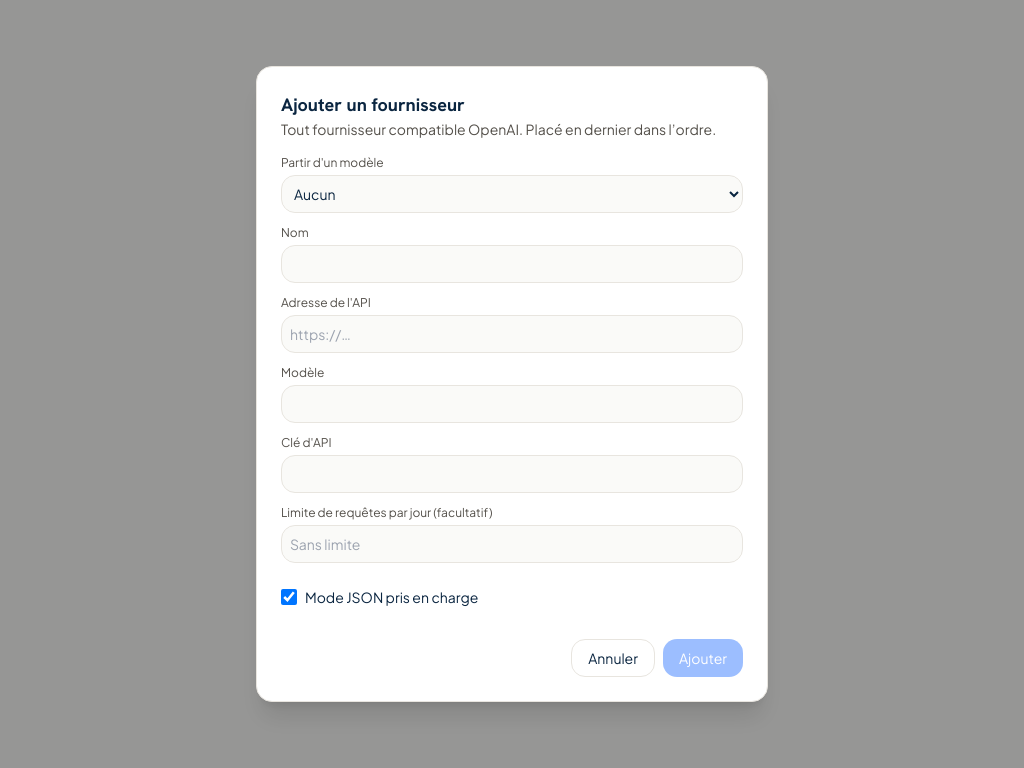
Test: ProviderFormDialog › erreur générale
The width and height of the screenshot is (1024, 768).
Type "Groq" into the field with test id "provider-name".
click(512, 264); type("Groq")  # box 281,245 -> 743,283
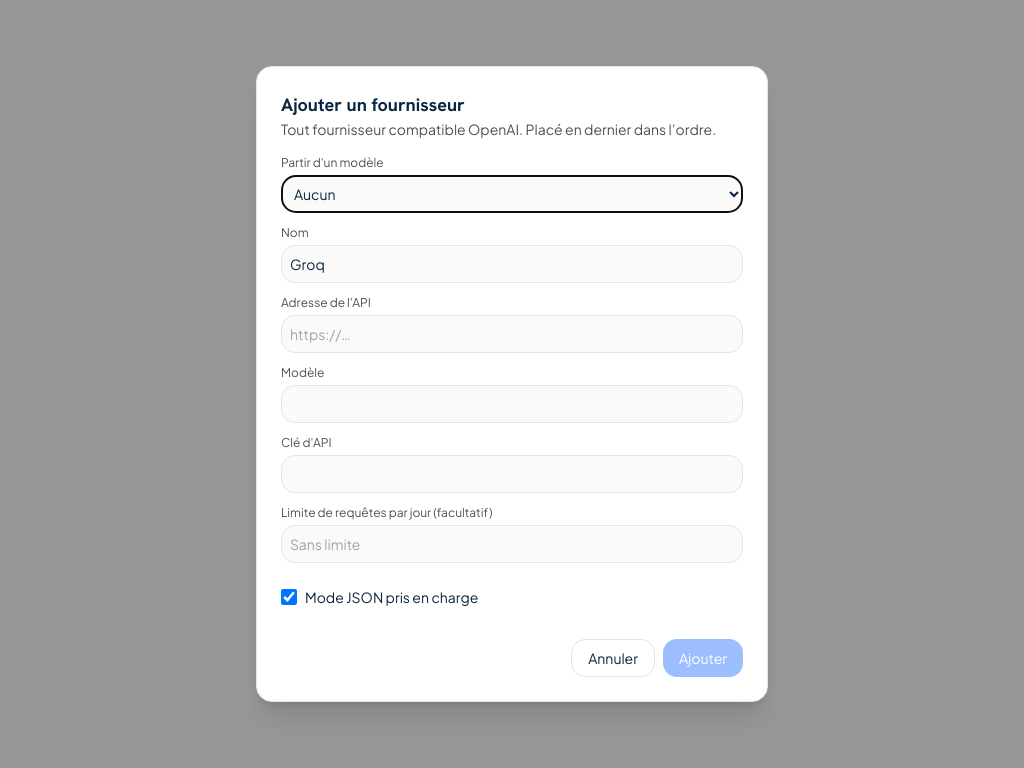
Type "https://a.com" into the field with test id "provider-base-url".
click(512, 334); type("https://a.com")  # box 281,315 -> 743,353
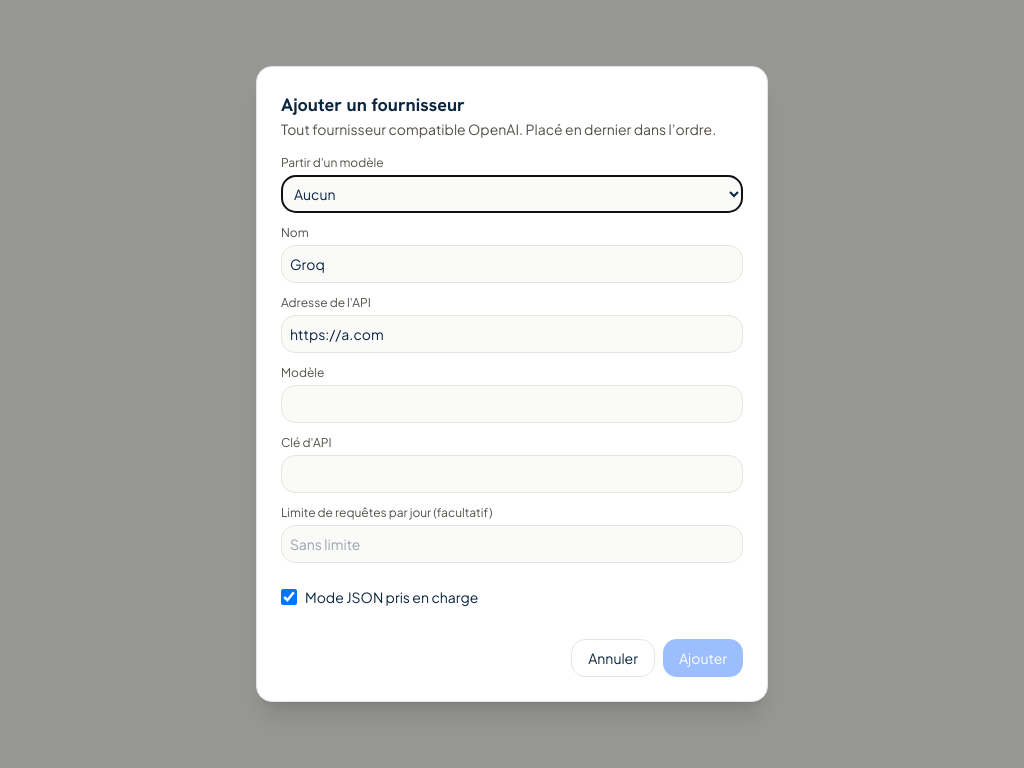
Type "m" into the field with test id "provider-model".
click(512, 404); type("m")  # box 281,385 -> 743,423
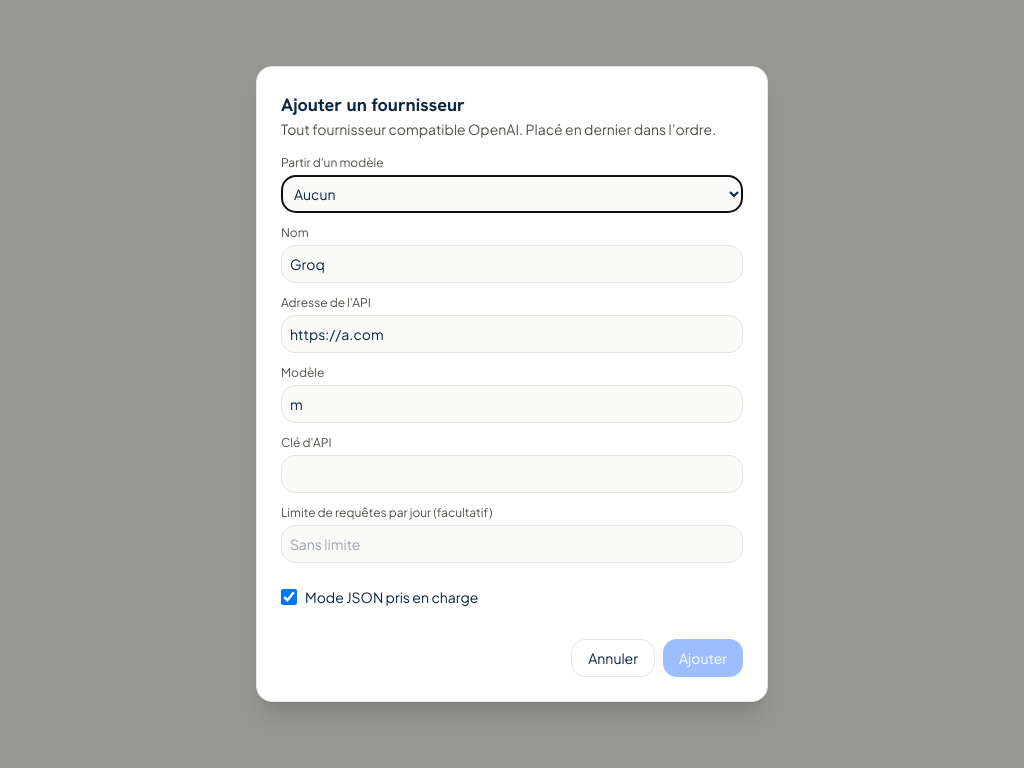
Type "gsk_secret_1" into the password field with test id "provider-api-key".
click(512, 474); type("gsk_secret_1")  # box 281,455 -> 743,493
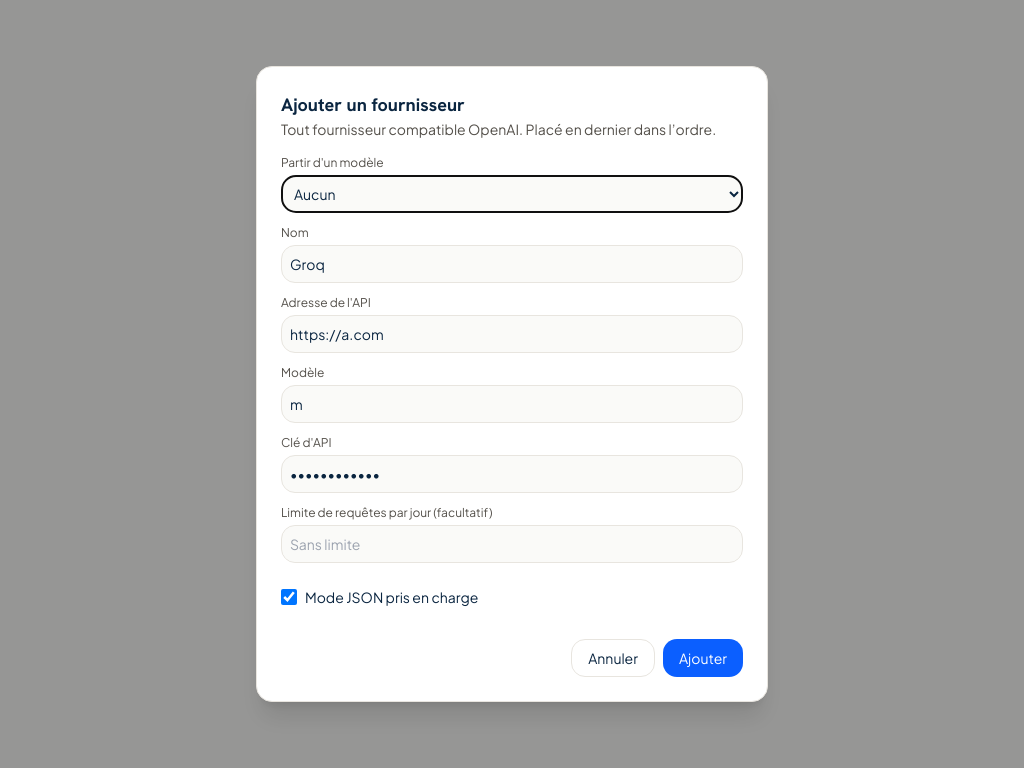
Click the button with test id "provider-submit".
click(703, 658)  # box 663,639 -> 743,677
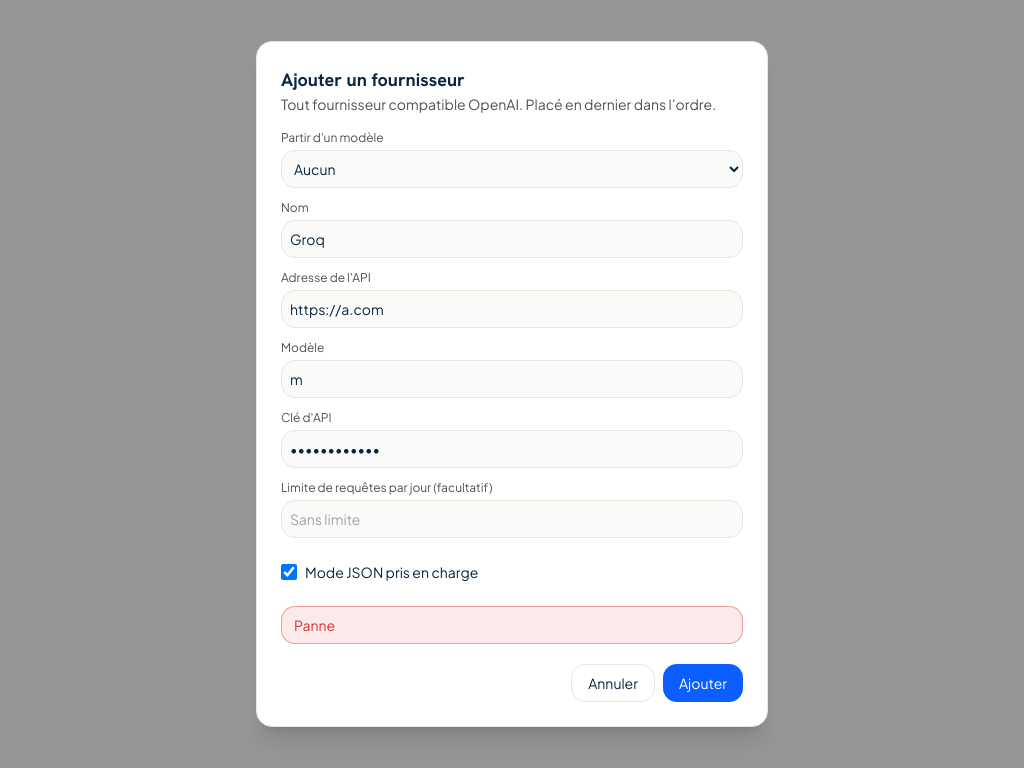
Expected: the message with test id "provider-error" reads "Panne", 294,616 -> 335,634
